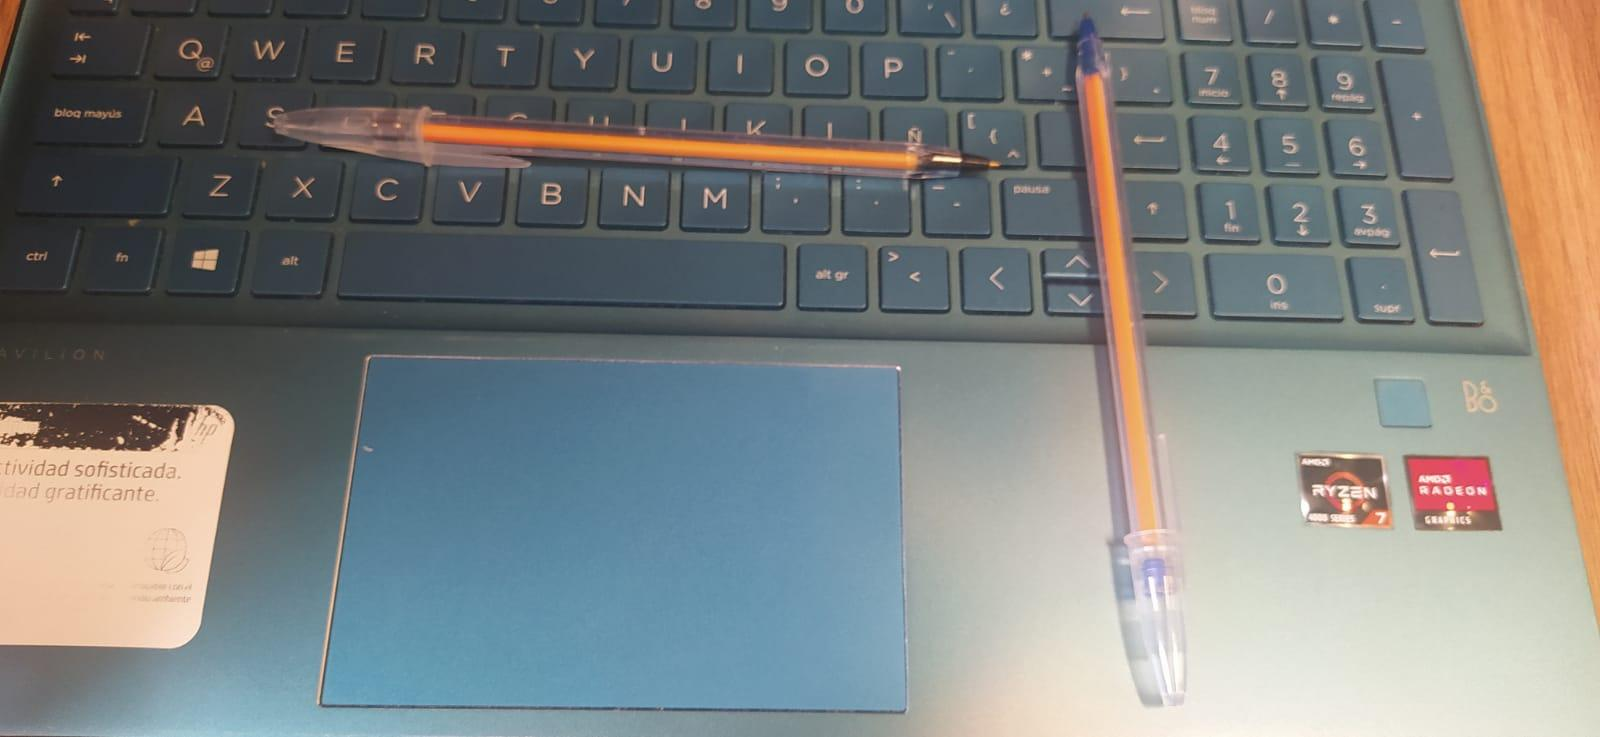pen: (1071, 11, 1192, 711), (268, 103, 1003, 179)
